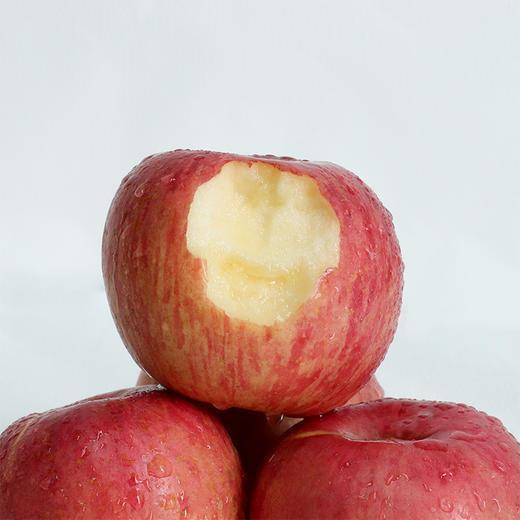apple: (100, 147, 405, 416), (253, 399, 520, 520), (1, 387, 240, 520)
